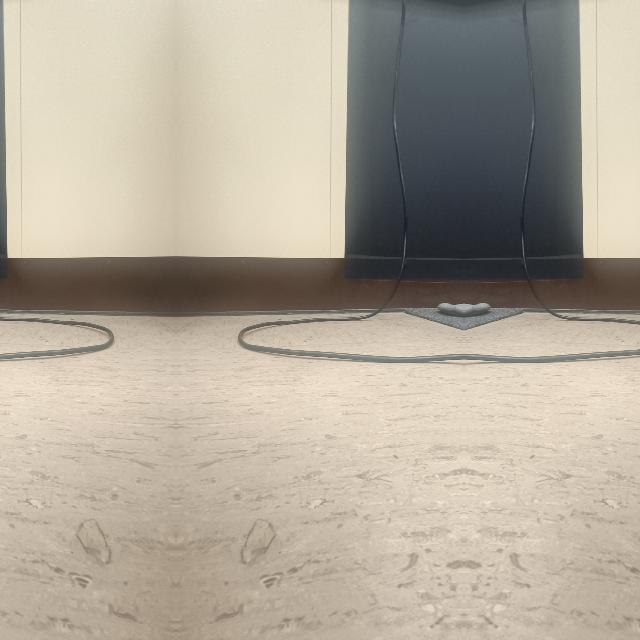obstacle: (232, 314, 463, 392), (463, 314, 640, 392), (0, 314, 117, 392)
